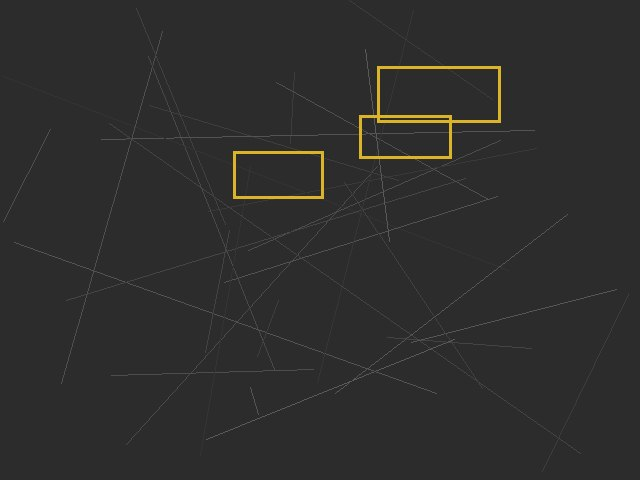D00: (377, 66, 500, 122), (233, 151, 323, 198), (359, 115, 451, 158)
